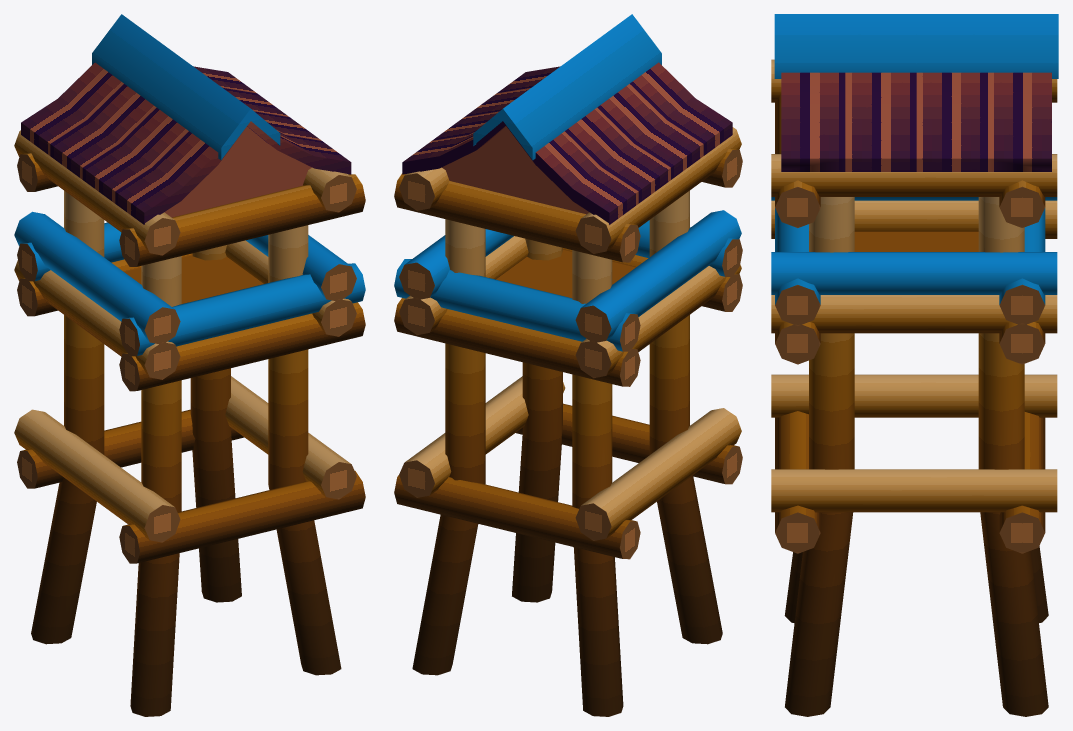
The model's file is tower_lvl1.fbx.
The picture shows the model from 3 angles, left to right: view 1: azimuth 30°, elevation 25°; view 2: azimuth 150°, elevation 25°; view 3: azimuth 270°, elevation 25°; orthographic projection. The views are drawn at different scales.
Visible parts, largest first — view 1: tower_lvl1.001; view 2: tower_lvl1.001; view 3: tower_lvl1.001.
Boxes of the visible parts, box(x1,y1,x2,y2) form: tower_lvl1.001: box(14, 14, 365, 716); tower_lvl1.001: box(394, 14, 742, 716); tower_lvl1.001: box(771, 14, 1058, 716).
Size of the model in its own units: 0.2 by 0.4996 by 0.2009.
